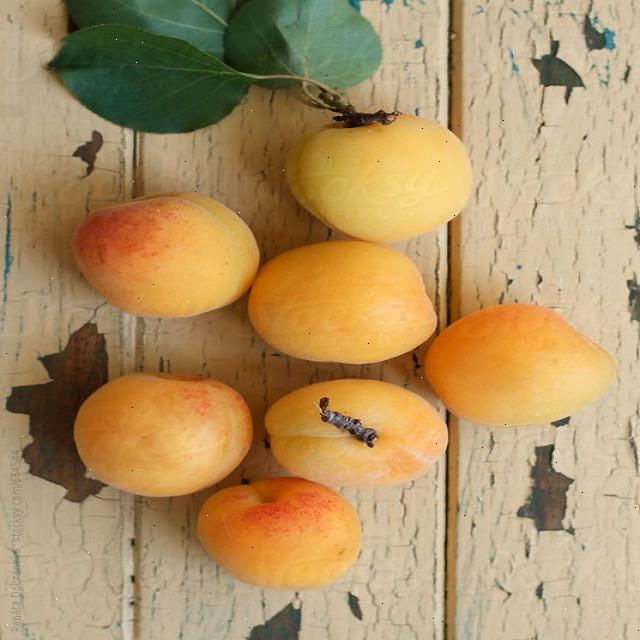kayisi: (285, 114, 473, 248), (247, 239, 439, 368), (422, 304, 617, 429), (72, 194, 262, 321), (73, 374, 256, 499), (264, 380, 449, 495), (195, 479, 362, 591)
kayisiyapragi: (46, 0, 384, 136)
